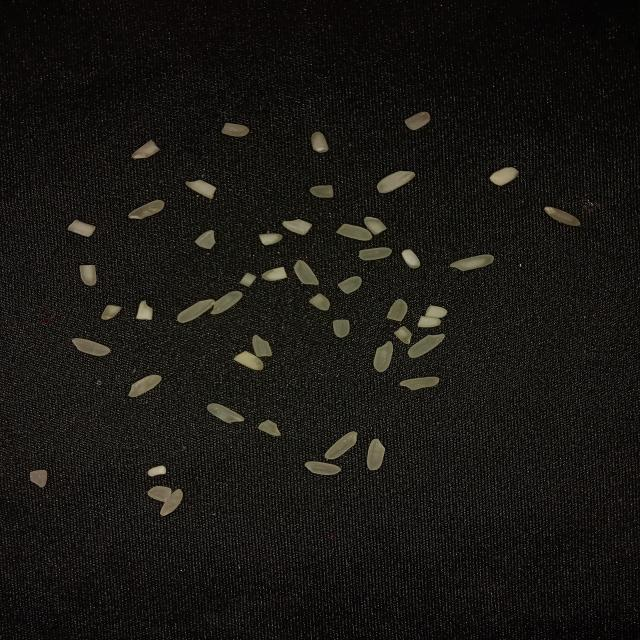Broken: (185, 179, 217, 199), (335, 224, 372, 241), (489, 167, 520, 186), (131, 140, 160, 160), (233, 351, 263, 370), (282, 218, 313, 236), (68, 219, 97, 237), (387, 298, 408, 322), (404, 112, 431, 130), (195, 229, 217, 250), (359, 247, 392, 261), (363, 217, 387, 236), (146, 486, 172, 503), (252, 334, 272, 356), (338, 276, 362, 294), (310, 131, 329, 153), (257, 419, 281, 436), (262, 266, 287, 282), (401, 249, 421, 269), (221, 123, 249, 137), (135, 300, 154, 320), (79, 265, 97, 286), (310, 293, 330, 311), (100, 304, 122, 320), (259, 232, 284, 246), (30, 469, 48, 488), (394, 326, 412, 344), (333, 319, 350, 338), (310, 185, 334, 198), (425, 305, 447, 319), (417, 316, 441, 328), (239, 272, 256, 287), (147, 466, 167, 476)
Full: (324, 431, 358, 460), (177, 299, 216, 323), (408, 333, 445, 358), (377, 170, 415, 193), (211, 291, 244, 315), (128, 374, 162, 397), (207, 404, 246, 424), (450, 254, 494, 271), (128, 200, 165, 220), (71, 338, 111, 356), (544, 206, 580, 226), (366, 438, 386, 471), (160, 489, 184, 516), (294, 260, 319, 285), (373, 341, 393, 372), (400, 376, 440, 390), (304, 461, 341, 475)
